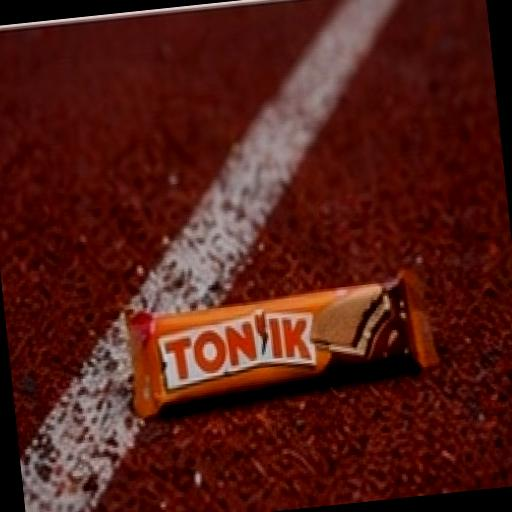tonik: (71, 160, 508, 512)
